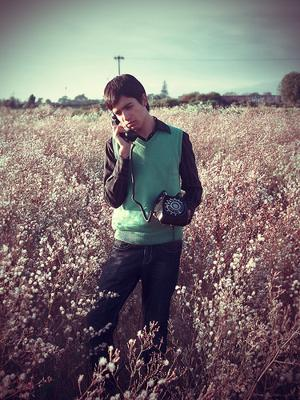person: (100, 77, 204, 378)
